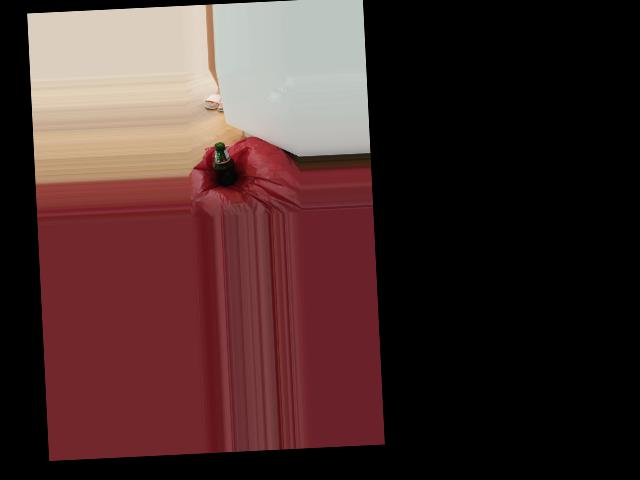beer: (212, 142, 237, 187)
